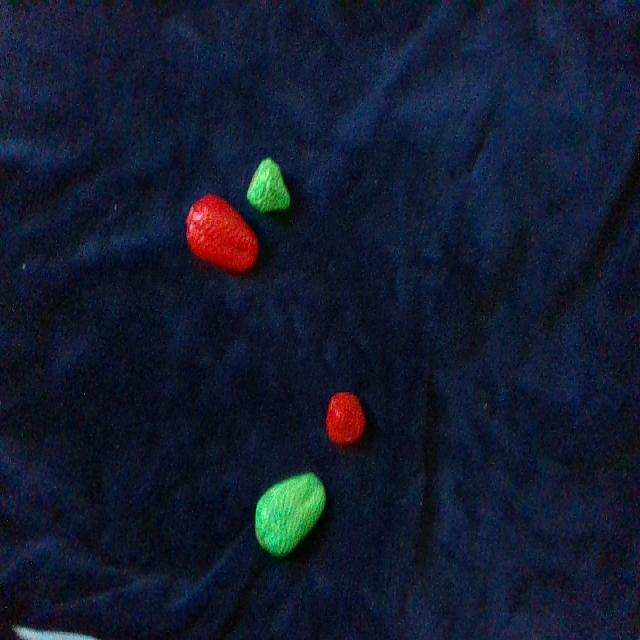chica_roja: (326, 393, 365, 443)
grande_roja: (187, 195, 257, 272)
verde: (255, 472, 325, 556), (247, 159, 289, 211)
